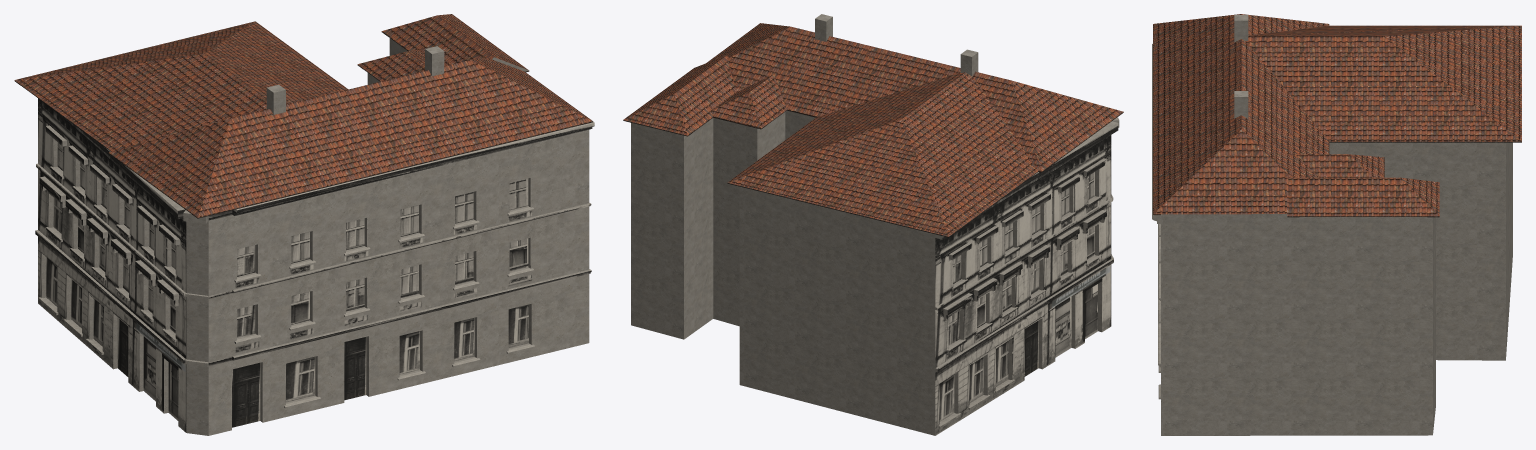
The model's file is 267-gpt-g8-v3.glb.
3 views of the same model, side by side, from view 1: azimuth 30°, elevation 25°; view 2: azimuth 150°, elevation 25°; view 3: azimuth 270°, elevation 25° (orthographic). The views are drawn at different scales.
Visible parts, largest first — view 1: CP_267_Masonry, CP_267_Roof, CP_267_WingRoof_Rear_Wing_W, CP_267_WingRoof_Rear_Wing_E, CP_267_Cornice_main_0, CP_267_Cornice_shop_0, CP_267_Cornice_string2_0, CP_267_WingRoof_Rear_Wing_M, CP_267_Cornice_kulova_main, CP_267_Cornice_kulova_shop, CP_267_Cornice_kulova_string2, CP_267_Roof_EaveClosure_0; view 2: CP_267_Masonry, CP_267_WingRoof_Rear_Wing_W, CP_267_Roof, CP_267_WingRoof_Rear_Wing_E, CP_267_WingRoof_Rear_Wing_M, CP_267_Cornice_kulova_main, CP_267_Cornice_kulova_shop, CP_267_Cornice_kulova_string2; view 3: CP_267_Masonry, CP_267_WingRoof_Rear_Wing_W, CP_267_Roof, CP_267_WingRoof_Rear_Wing_E, CP_267_WingRoof_Rear_Wing_M, CP_267_Chimney_1, CP_267_Chimney_0, CP_267_WingRoof_Rear_Wing_W_EaveClosure_2.
Boxes of the visible parts, x1,y1,x2,y2 form: CP_267_Masonry: (38,38,589,435); CP_267_Roof: (108,57,592,217); CP_267_WingRoof_Rear_Wing_W: (14,21,348,151); CP_267_WingRoof_Rear_Wing_E: (382,14,528,71); CP_267_Cornice_main_0: (232,121,594,215); CP_267_Cornice_shop_0: (232,269,591,360); CP_267_Cornice_string2_0: (232,203,591,293); CP_267_WingRoof_Rear_Wing_M: (357,49,424,81); CP_267_Cornice_kulova_main: (49,106,185,218); CP_267_Cornice_kulova_shop: (35,230,185,363); CP_267_Cornice_kulova_string2: (36,163,185,296); CP_267_Roof_EaveClosure_0: (192,124,582,218); CP_267_Masonry: (631,110,1111,435); CP_267_WingRoof_Rear_Wing_W: (727,72,1037,236); CP_267_Roof: (706,23,1123,171); CP_267_WingRoof_Rear_Wing_E: (623,55,736,135); CP_267_WingRoof_Rear_Wing_M: (711,74,786,128); CP_267_Cornice_kulova_main: (935,121,1118,239); CP_267_Cornice_kulova_shop: (935,259,1113,372); CP_267_Cornice_kulova_string2: (935,198,1112,310); CP_267_Masonry: (1161,142,1512,435); CP_267_WingRoof_Rear_Wing_W: (1245,25,1521,141); CP_267_Roof: (1153,14,1329,214); CP_267_WingRoof_Rear_Wing_E: (1287,177,1439,216); CP_267_WingRoof_Rear_Wing_M: (1296,154,1384,177); CP_267_Chimney_1: (1234,91,1248,118); CP_267_Chimney_0: (1234,15,1248,42); CP_267_WingRoof_Rear_Wing_W_EaveClosure_2: (1329,141,1521,142).
Bounding box in the file's own units: 23.09 × 15.8 × 18.45.
Materials: 9 (9 with a texture image).
